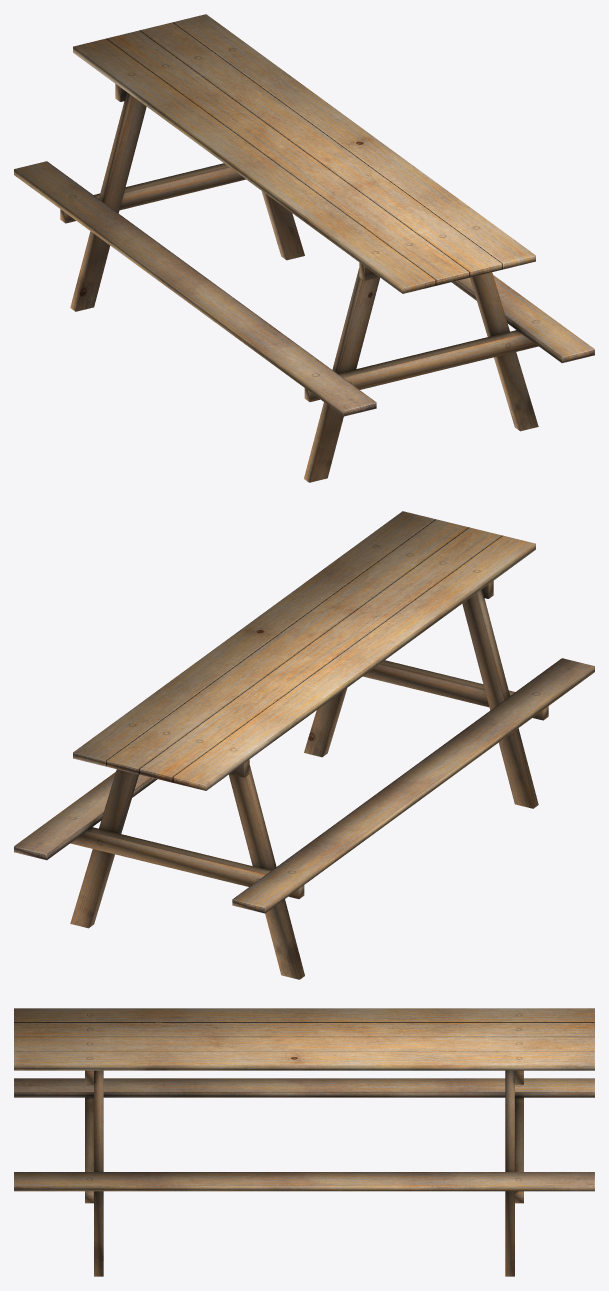
File: garden_table.obj
3 renders of one model, top to bottom at view 1: azimuth 30°, elevation 25°; view 2: azimuth 150°, elevation 25°; view 3: azimuth 270°, elevation 25°, orthographic. The views are drawn at different scales.
Parts seen in each view (by area): view 1: garden_table_Plane.002; view 2: garden_table_Plane.002; view 3: garden_table_Plane.002.
Boxes of the visible parts, <box> form: garden_table_Plane.002: <box>14,14,594,482</box>; garden_table_Plane.002: <box>14,511,594,979</box>; garden_table_Plane.002: <box>14,1008,594,1276</box>.
Bounding box in the file's own units: 1.32 × 1.09 × 3.
Materials: 1 (1 with a texture image).
